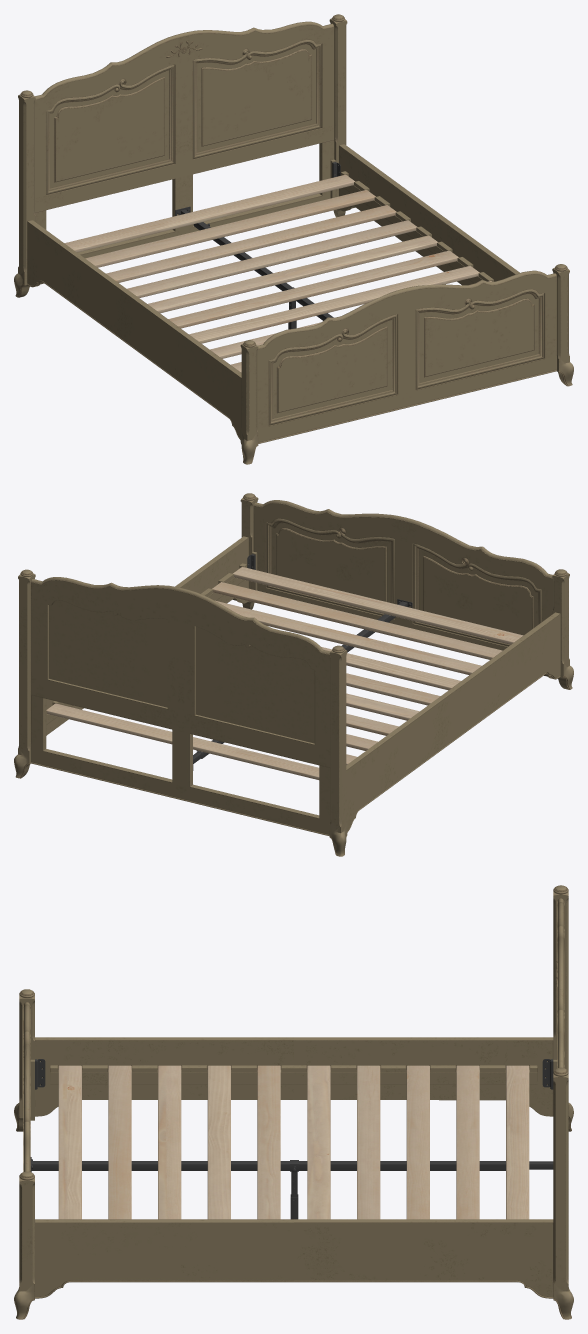
File: example51.gltf
3 renders of one model, top to bottom at view 1: azimuth 30°, elevation 25°; view 2: azimuth 150°, elevation 25°; view 3: azimuth 270°, elevation 25°, orthographic. The views are drawn at different scales.
Size of the model in its own units: 177 by 126 by 216.
Materials: 3 (2 with a texture image).
